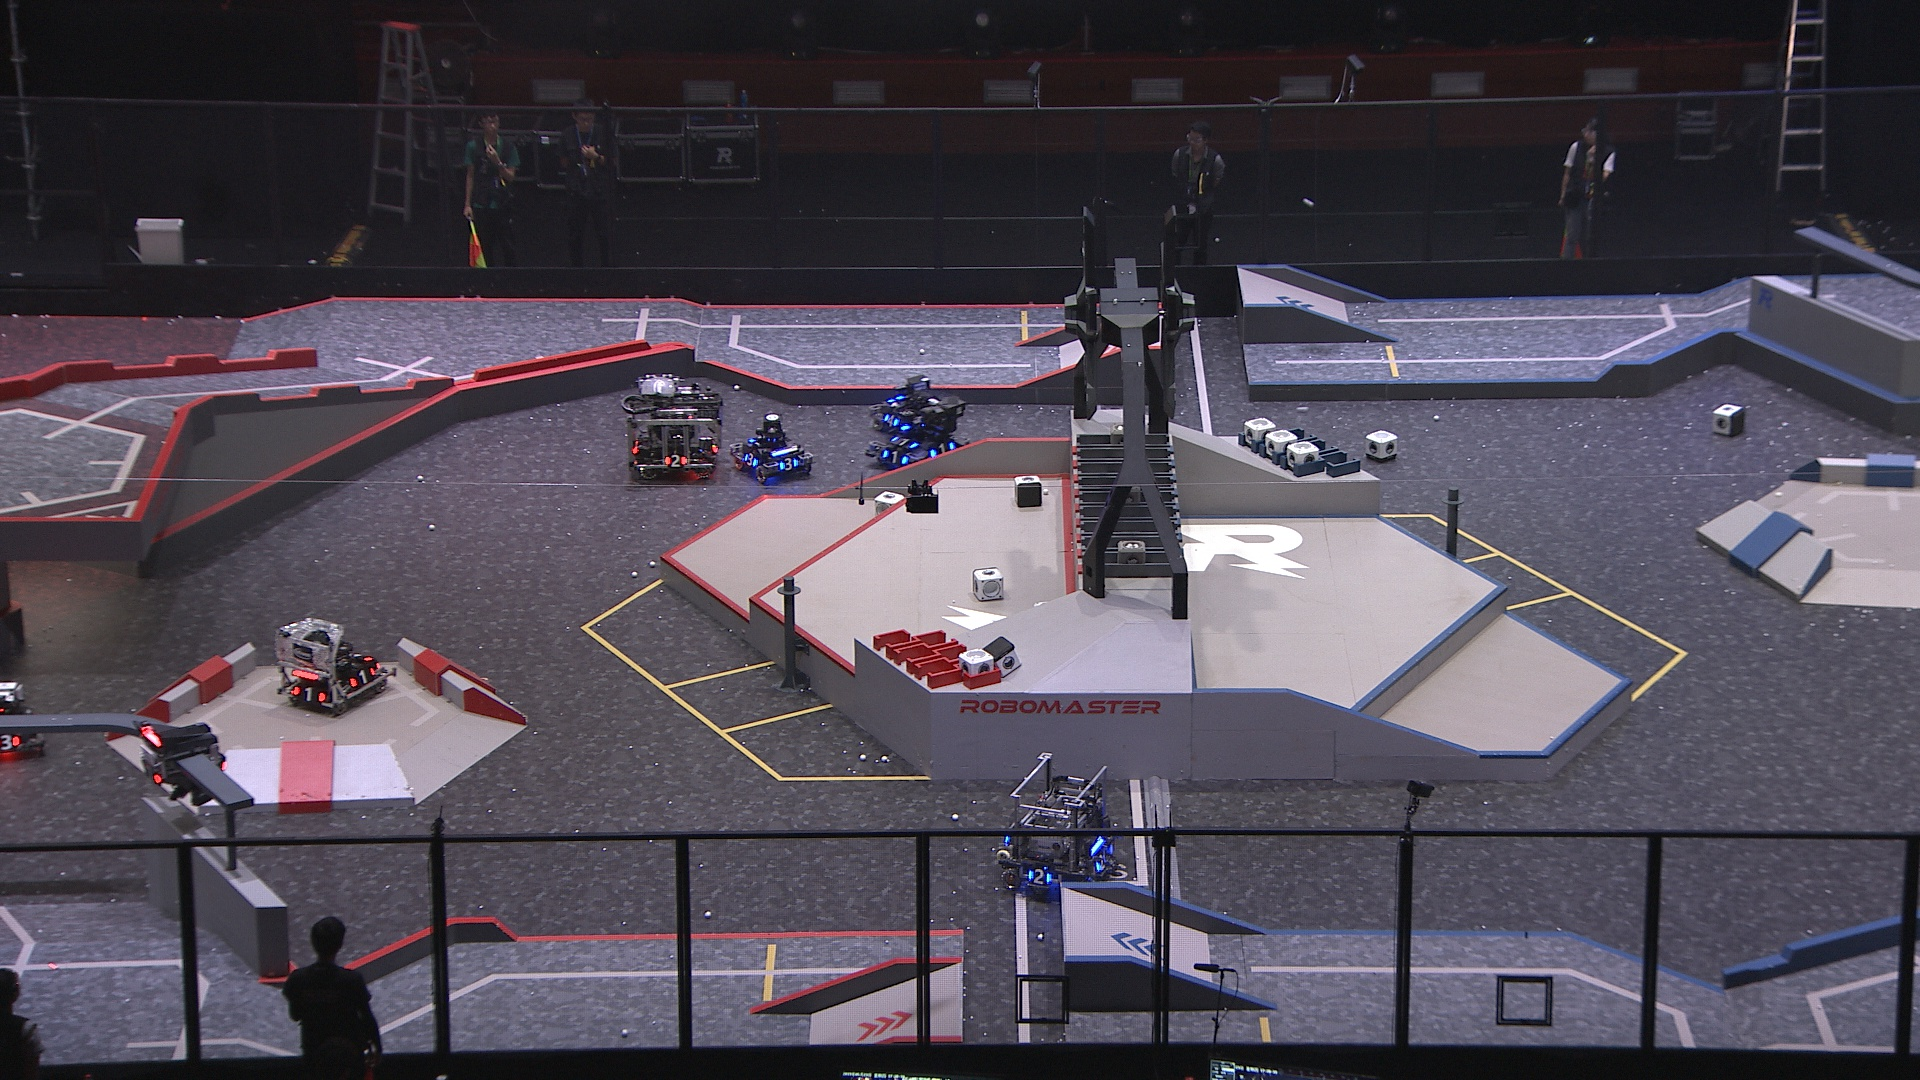armor: (291, 684, 328, 704), (140, 757, 164, 787), (348, 666, 377, 688), (1025, 866, 1055, 887), (889, 433, 920, 450), (928, 440, 957, 458), (880, 451, 910, 465), (665, 454, 688, 471), (778, 455, 802, 472), (352, 650, 376, 665), (884, 411, 903, 429), (742, 451, 760, 469), (1095, 855, 1110, 874)
car: (993, 749, 1121, 905), (273, 618, 400, 716), (618, 373, 724, 481), (862, 396, 972, 477), (731, 410, 814, 485), (870, 373, 953, 439)
watcher: (140, 721, 229, 811)
